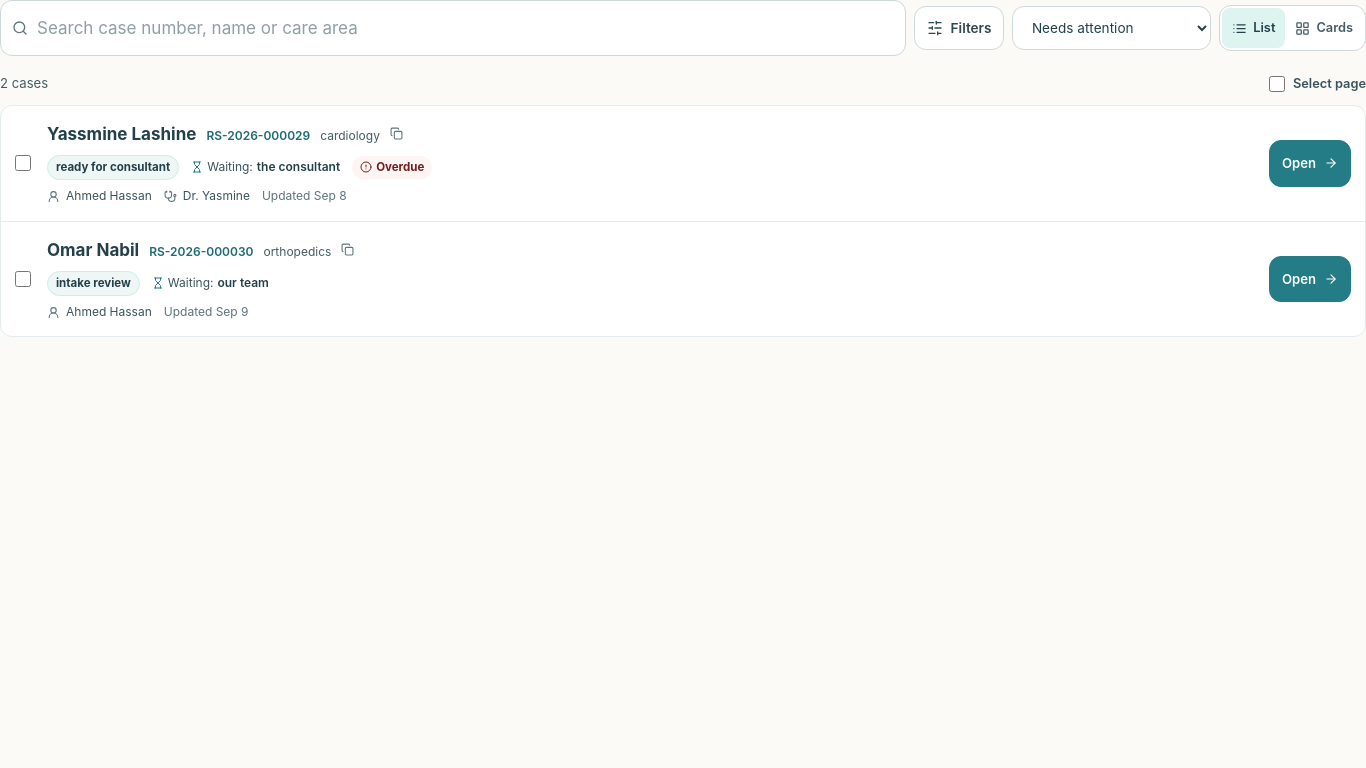
CaseQueue › keeps advanced filters out of the page until they are asked for
What coordinates should you click on to do the following:
click the button "Filters"
I would click on:
 (959, 28)
Its box is [914,6,1004,50].
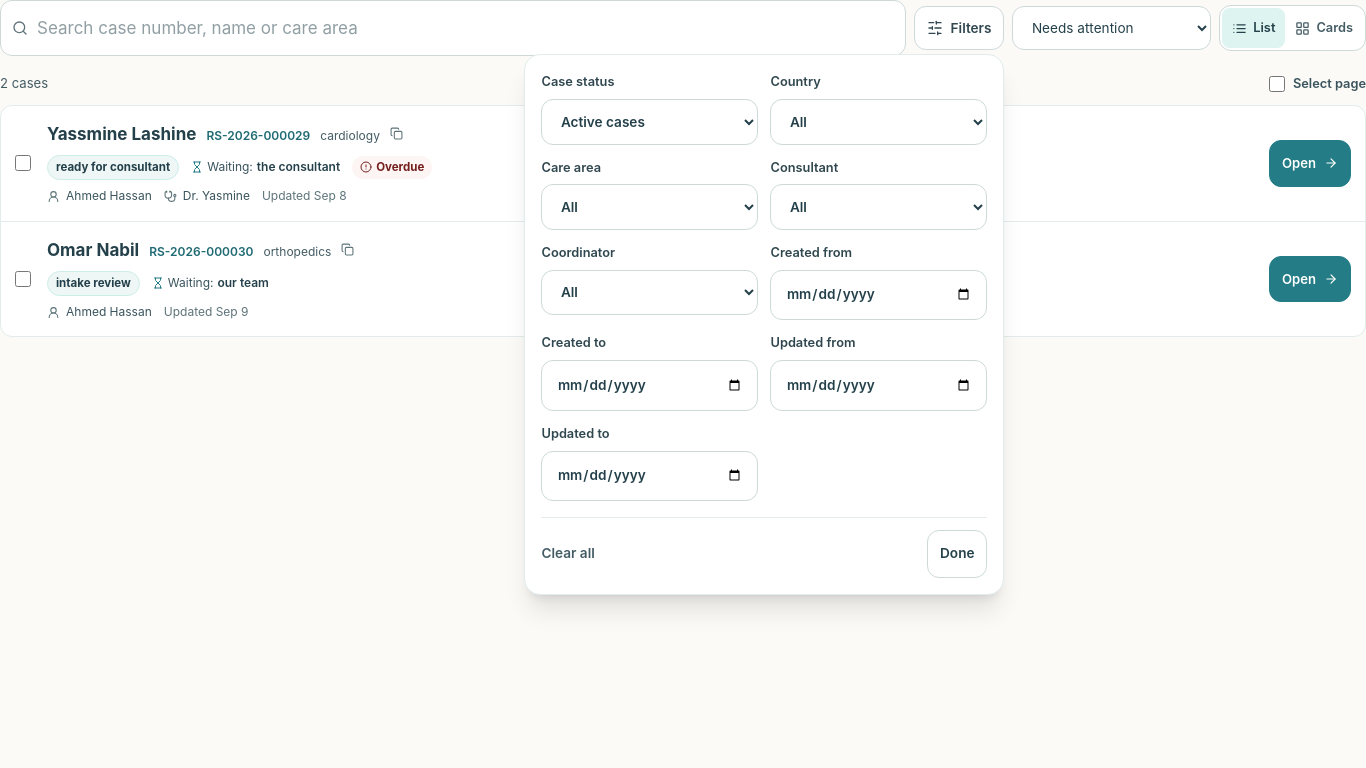
Expected: the dialog named "filters" is shown, [524,54,1004,595]
Expected: the dropdown labelled "Case status" is shown, [542,99,758,145]
